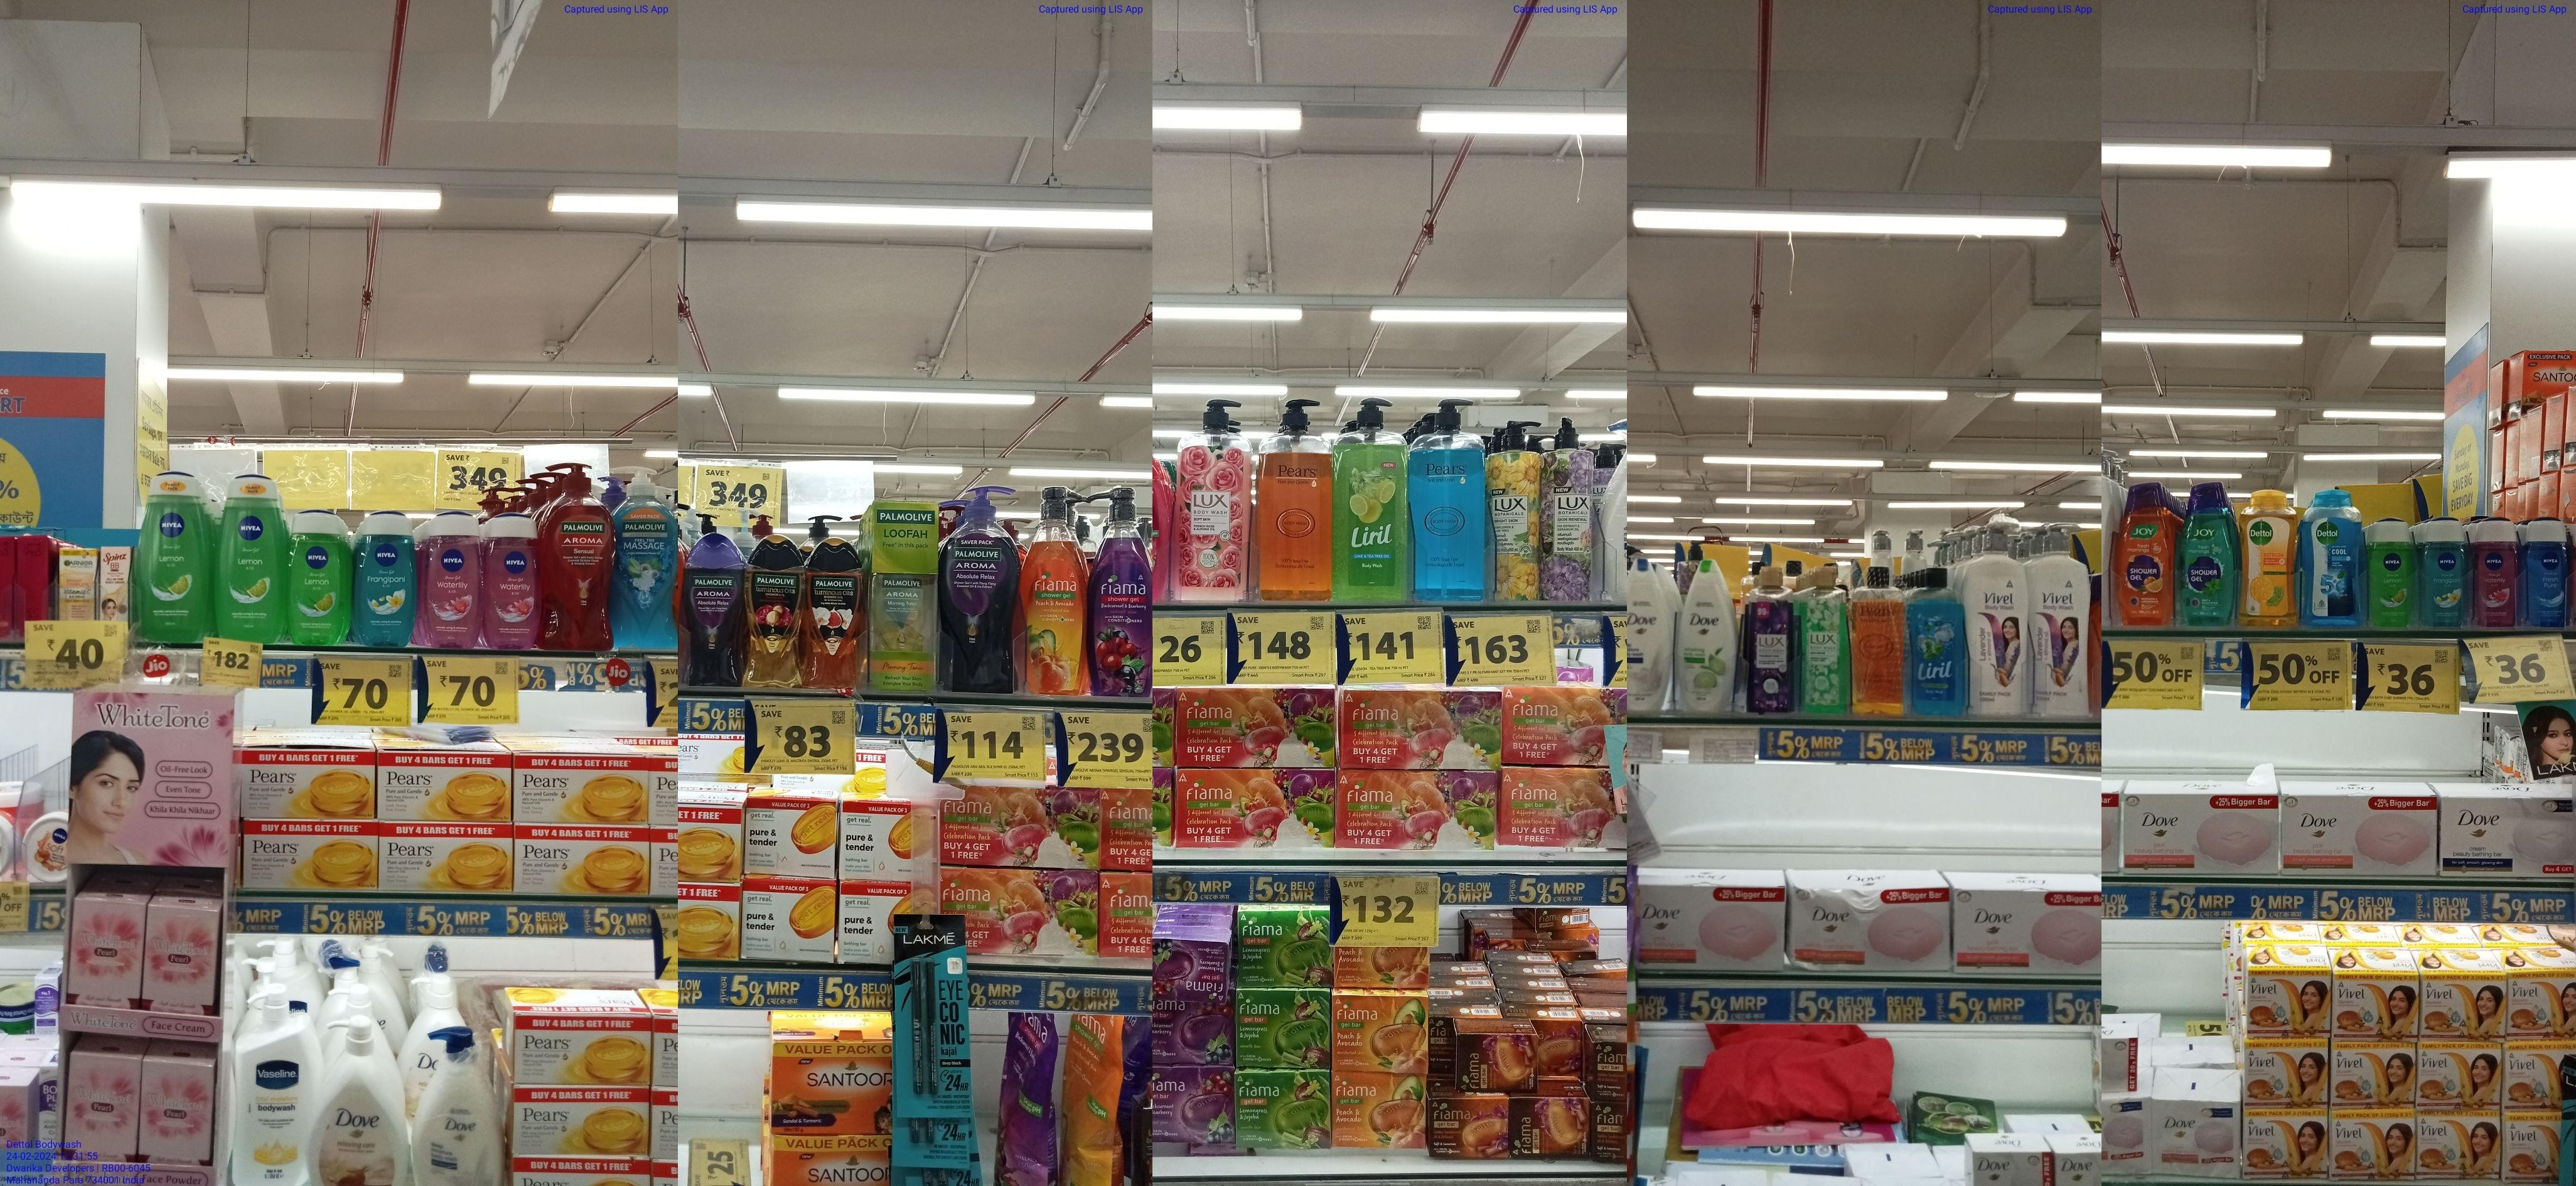Dettol_Bodywash_Cool: (2308, 491, 2362, 631)
Dettol_Bodywash_Refresh: (2242, 490, 2300, 629)
Dove_Deep_Moisture_Body_Wash_250ML: (1630, 562, 1669, 710)
Dove_Refreshing_Body_Wash_250ML: (1677, 560, 1735, 711)
Joy_Shower_Gel_Mandarin_and_Lemongrass_250ML: (2121, 483, 2170, 629)
Joy_Shower_Gel_Mint_and_Eucalyptus_250ML: (2178, 480, 2236, 627)
Liril_Cooling_Mint_Body_Wash_250ML: (1911, 565, 1968, 718)
Lux_Black_Orchid_Scent_and_Juniper_Oil_Body_Wash_245ML: (1748, 565, 1799, 710)
Lux_Body_Wash_Skin_Detox_Freesia_Scent_and_Alove_Vera_245ML: (1802, 567, 1851, 716)
Nivea_Shower_Gel_Frangipani_and_Oil_250ML: (356, 511, 414, 644)
Nivea_Shower_Gel_Lemon_and_Oil_250ML: (138, 471, 205, 641), (218, 475, 283, 644), (287, 511, 352, 649)
Nivea_Shower_Gel_Waterlily_and_Oil_250ML: (424, 511, 481, 654), (488, 514, 540, 647)
Palmolive_Aroma_Relax_250ML: (687, 537, 743, 688)
Palmolive_Luminous_Oils_Invigorating_Macadamia_Oil_With_Peony_250ML: (749, 539, 803, 690)
Palmolive_Luminous_Oils_With_White_Orchid_Shower_Gel_250ML: (807, 539, 864, 693)
